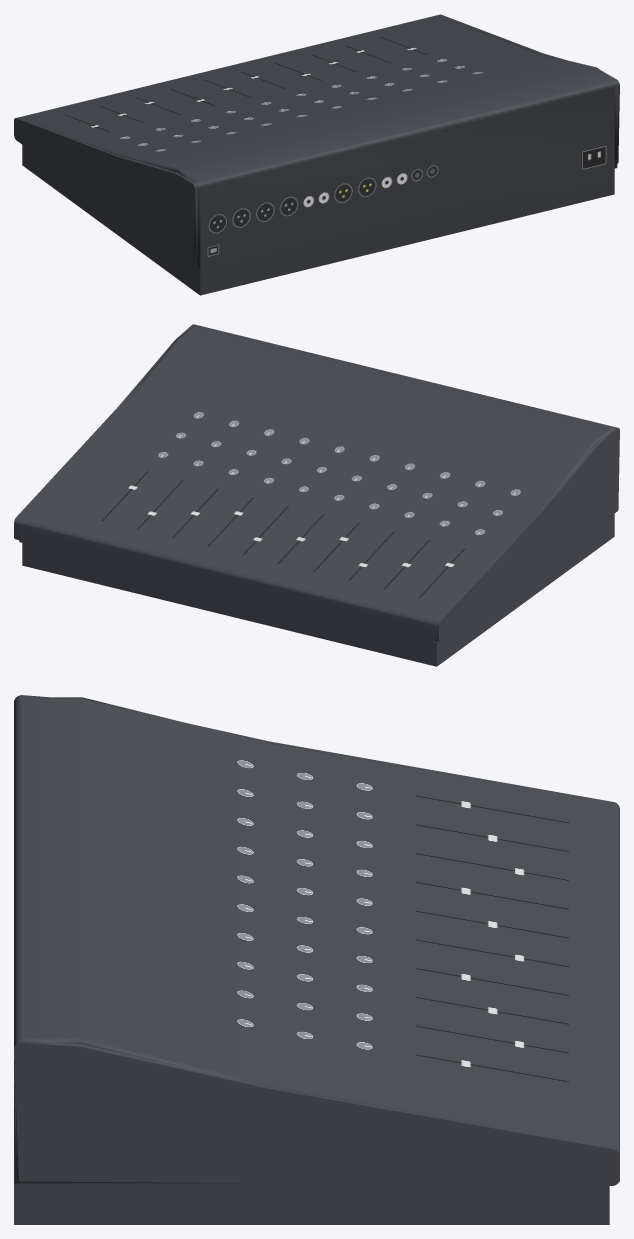
Rendered from sonifex-s0-v2.glb.
3 renders of one model, top to bottom at view 1: azimuth 30°, elevation 25°; view 2: azimuth 150°, elevation 25°; view 3: azimuth 270°, elevation 25°, orthographic. The views are drawn at different scales.
Parts seen in each view (by area): view 1: sonifex-s0-v2-body; view 2: sonifex-s0-v2-body; view 3: sonifex-s0-v2-body.
Part boxes in pixels (bbox=[...]): sonifex-s0-v2-body: bbox=[14, 14, 619, 295]; sonifex-s0-v2-body: bbox=[14, 324, 619, 666]; sonifex-s0-v2-body: bbox=[14, 695, 619, 1224].
Size of the model in its own units: 0.483 by 0.125 by 0.356.
Materials: 1 (1 with a texture image).
